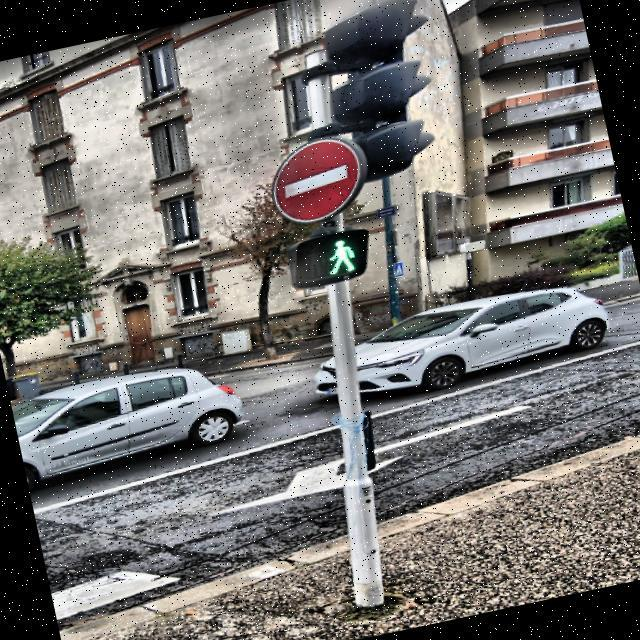green_light: (316, 232, 364, 278)
